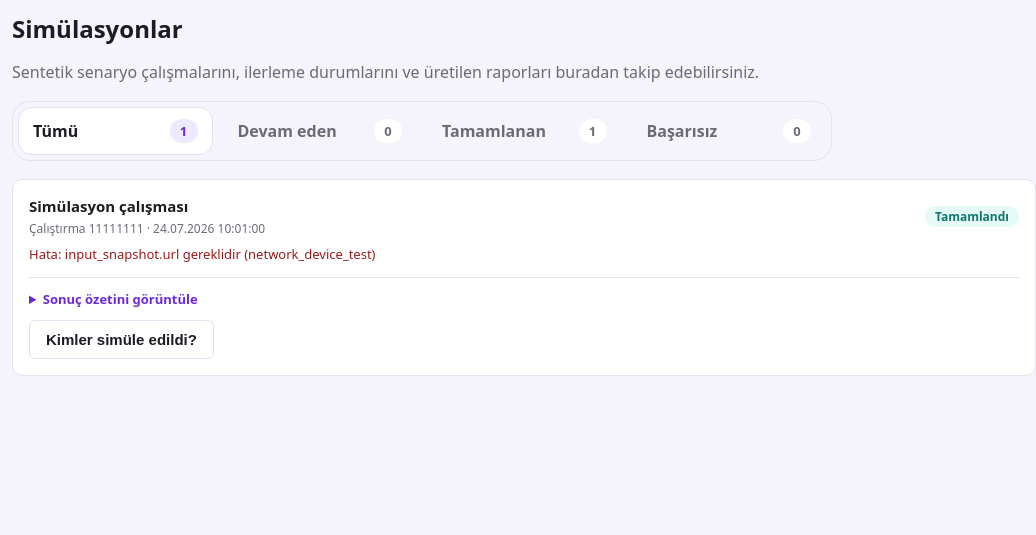
Test: Simulations - 'Kimler simüle edildi?' persona paneli › bilinmeyen/eksik attribute key'lerinde arayuz cokmez, guvenli fallback gosterir
expect the text "Çalıştırma 11111111 · 24.07.2026 10:01:00" is shown: met, box x1=29 y1=220 x2=265 y2=237
Click the button "Kimler simüle edildi?": (121, 340) x1=29 y1=320 x2=214 y2=359
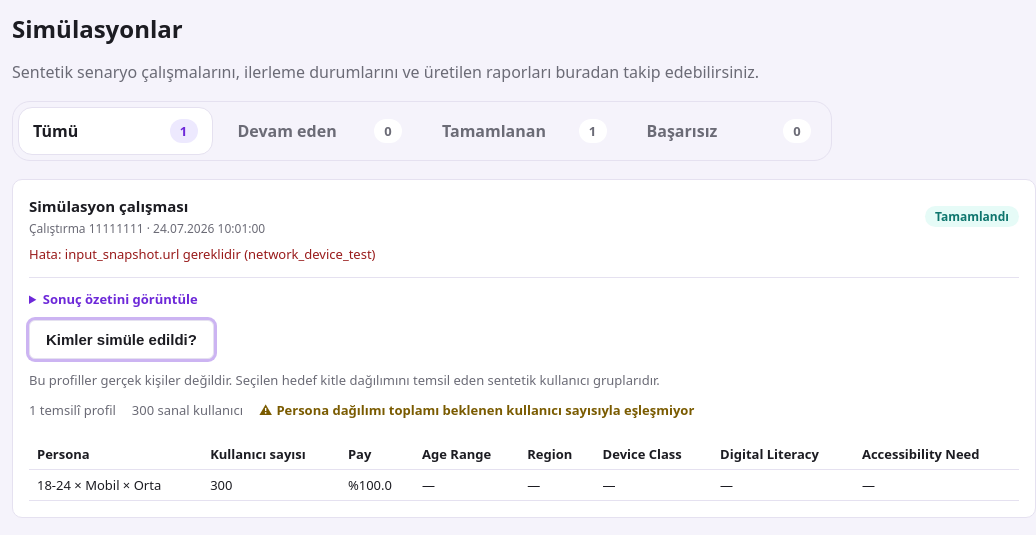
expect the text "1 temsilî profil" is shown: met, box x1=29 y1=401 x2=116 y2=419
expect the text "—" is shown 5 times: met, box x1=414 y1=470 x2=519 y2=500; x1=519 y1=470 x2=595 y2=500; x1=595 y1=470 x2=712 y2=500; x1=712 y1=470 x2=854 y2=500; x1=854 y1=470 x2=1019 y2=500
expect the column heading "Age Range" is shown: met, box x1=414 y1=439 x2=519 y2=470
